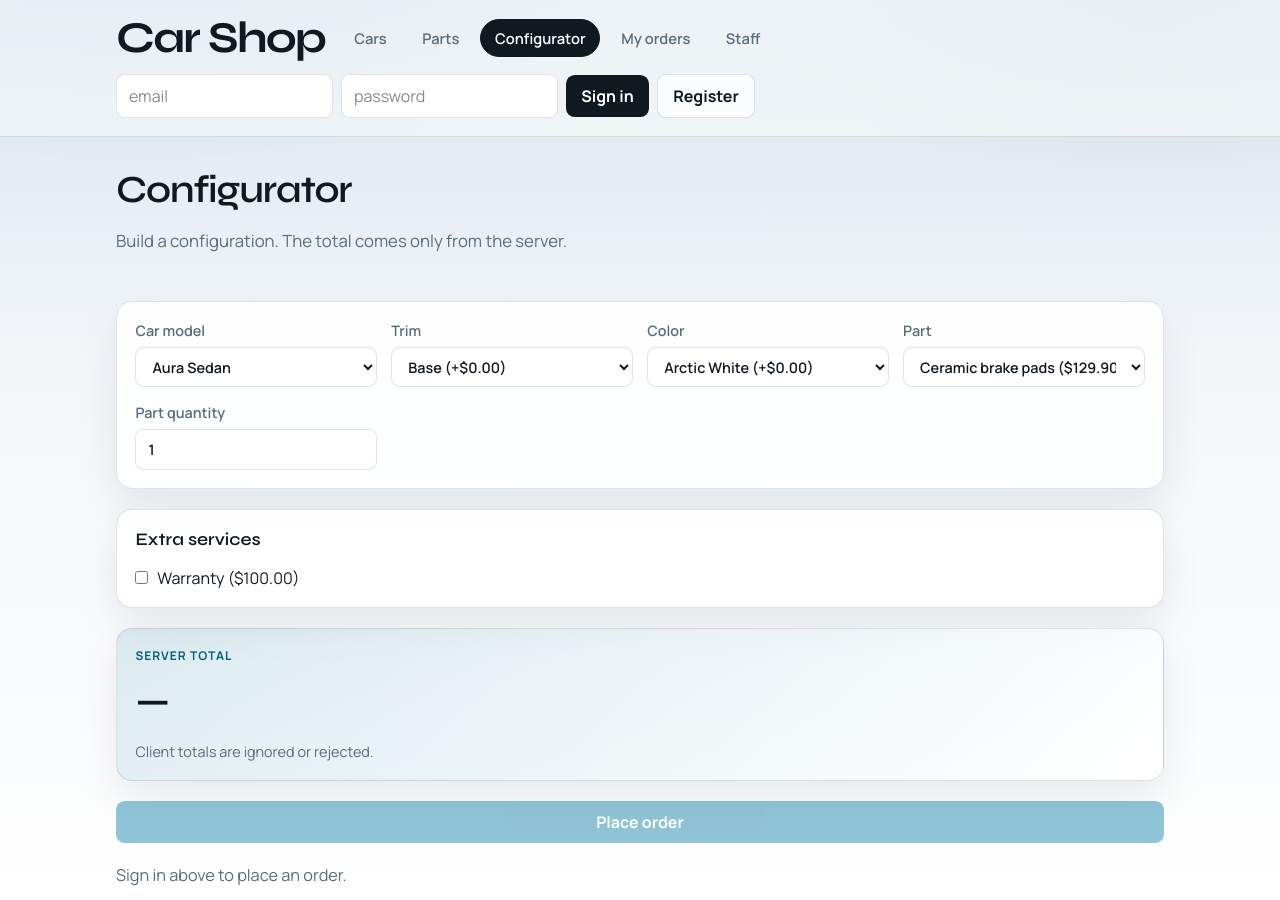
Test: App › opens dedicated parts page from navigation
This screenshot has width=1280, height=900.
Click the link "Parts": (441, 38) top-left (422, 28), bottom-right (459, 48)
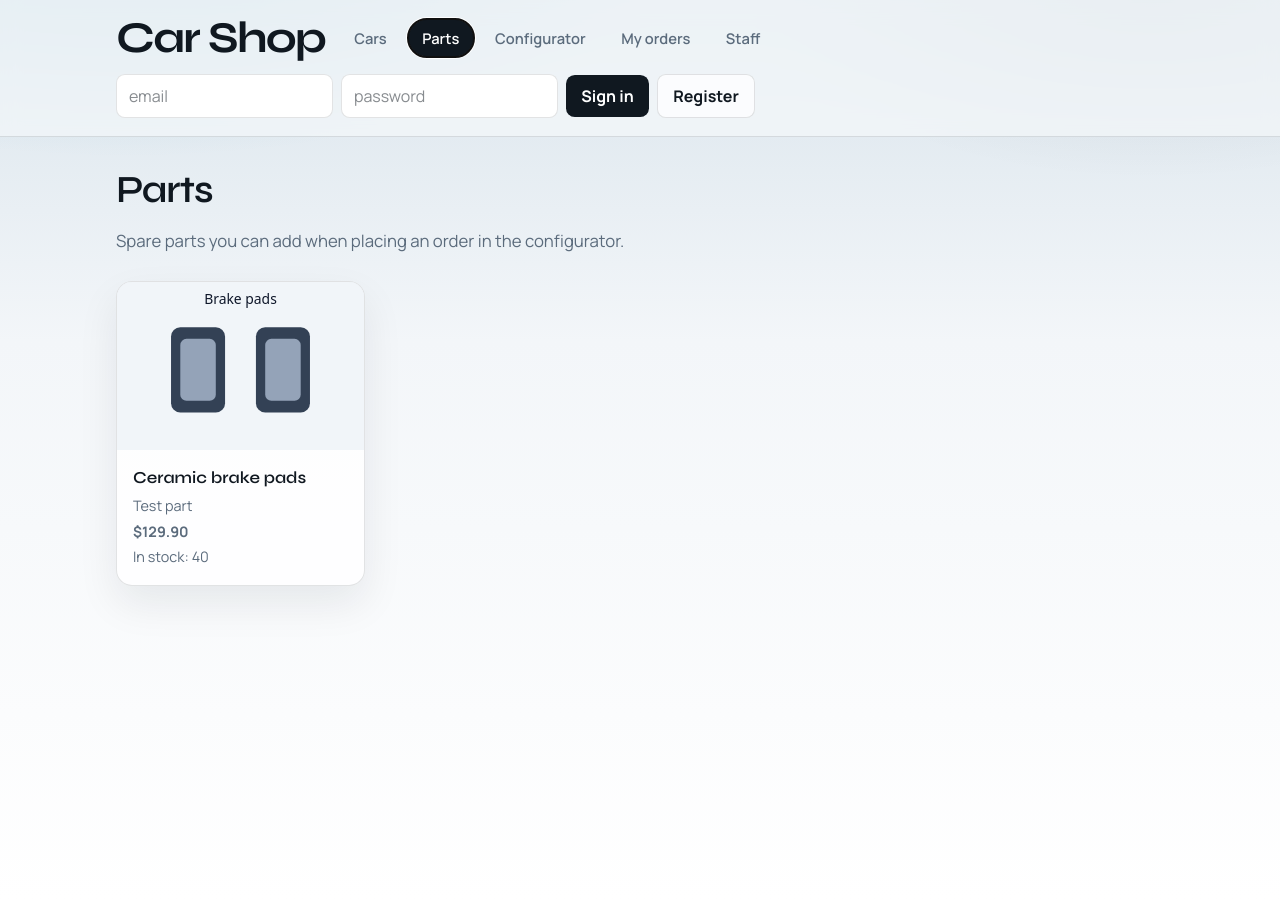
Expected: the heading "Parts" is shown, top-left (116, 166), bottom-right (213, 213)
Expected: the heading "Ceramic brake pads" is shown, top-left (133, 465), bottom-right (306, 490)
